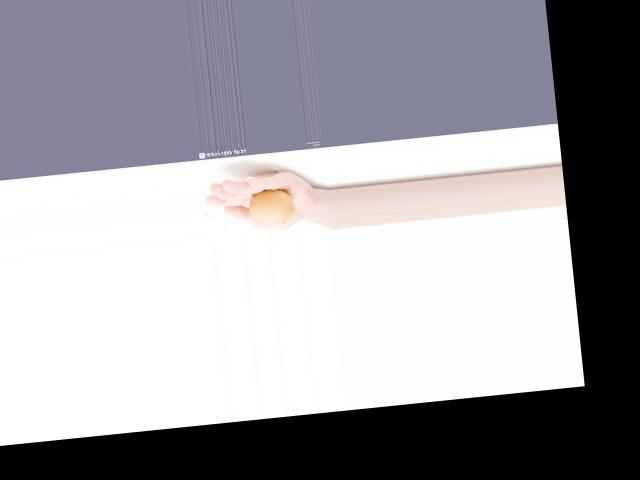egg: (248, 187, 296, 227)
